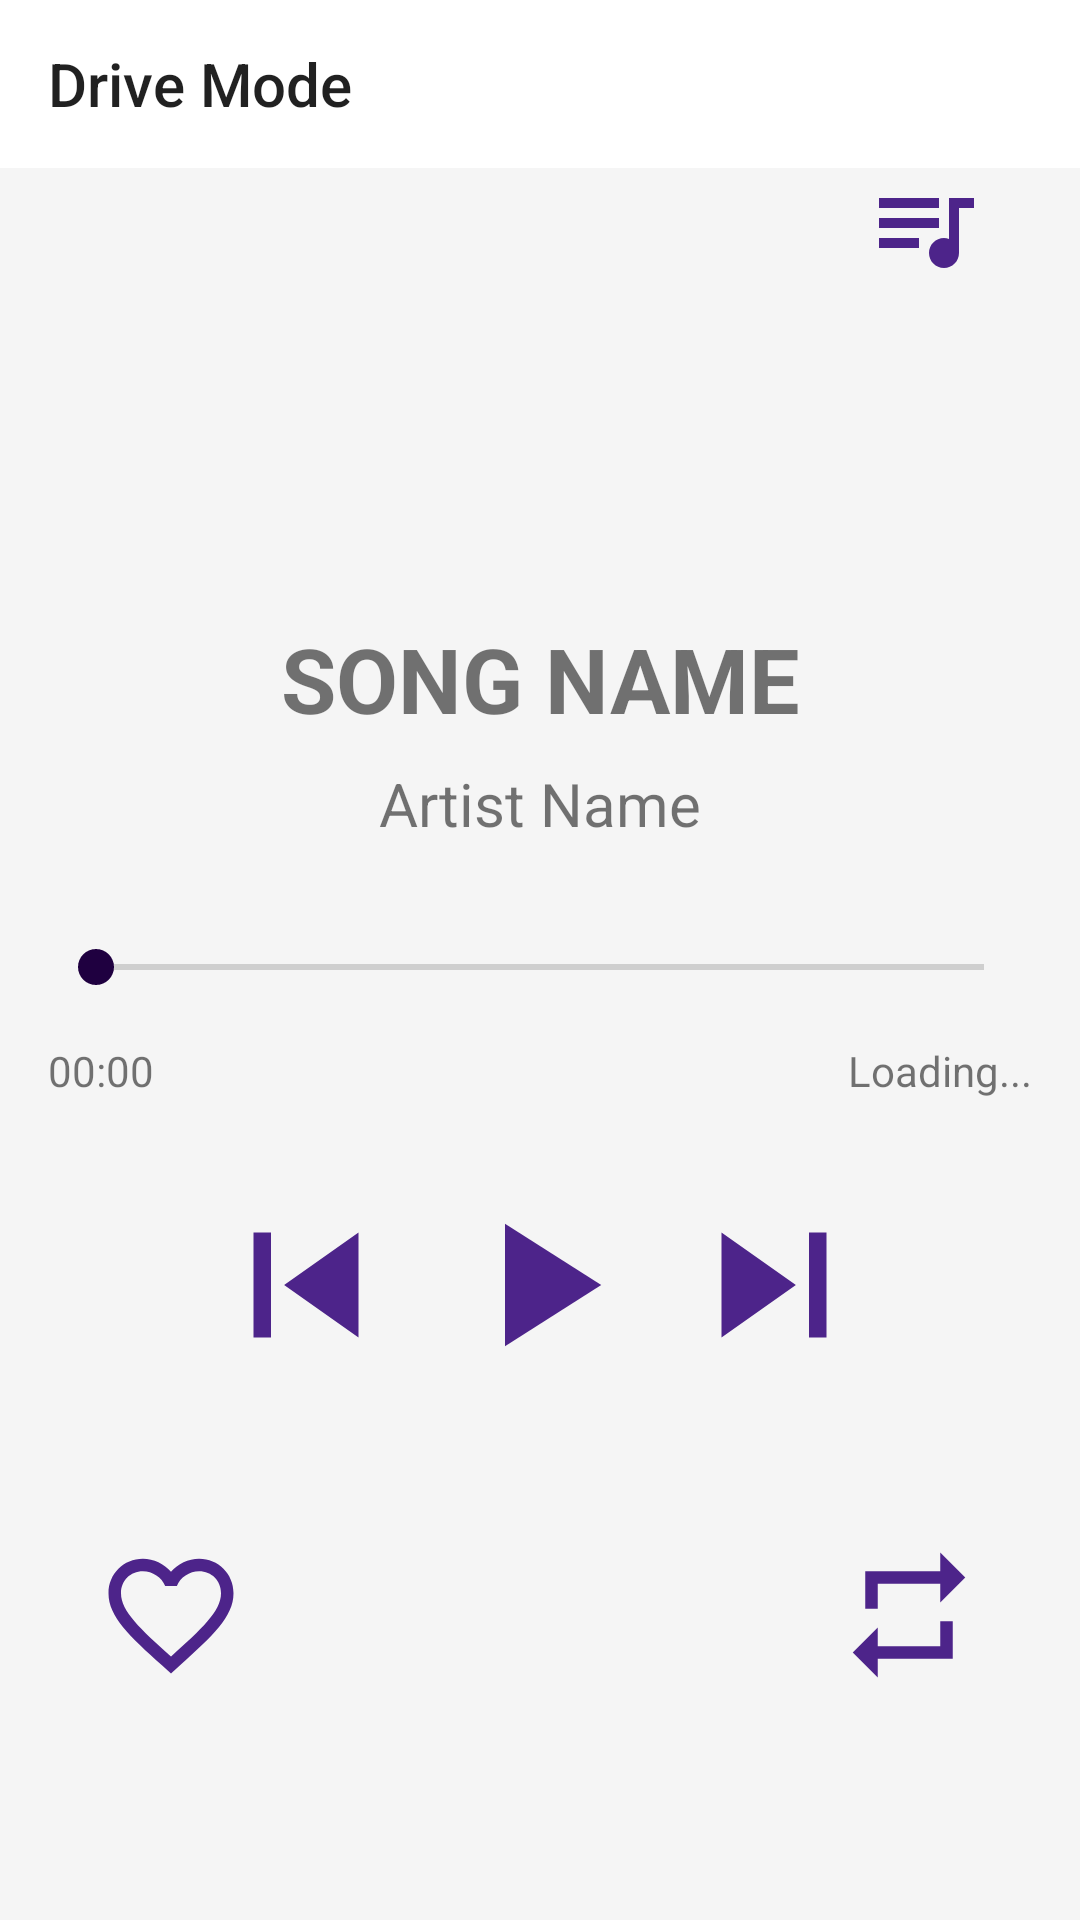

Where to tap for icons on this 1080x1920 app screen, as (x=x, y=y):
favorite borde: (x=171, y=1616)
Next button: (x=774, y=1285)
Play button: (x=553, y=1285)
repeat: (x=909, y=1615)
skip previous: (x=306, y=1285)
Song Queue button: (x=926, y=233)
